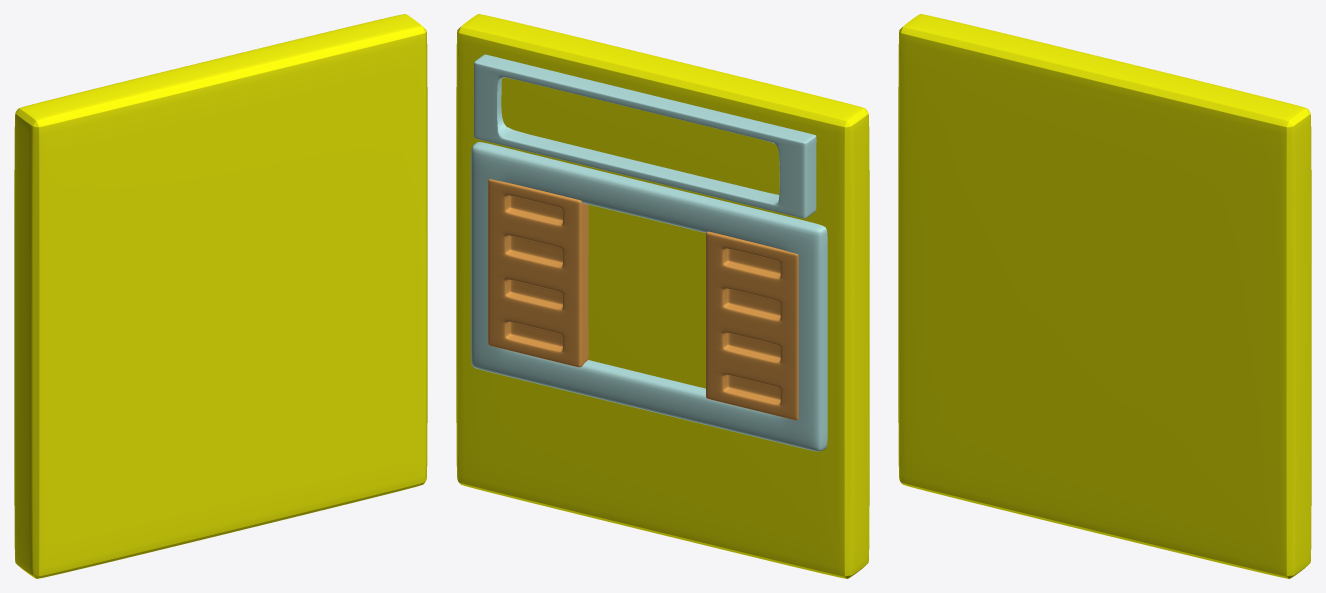
3 renders of one model, left to right at view 1: azimuth 30°, elevation 25°; view 2: azimuth 150°, elevation 25°; view 3: azimuth 330°, elevation 25°, orthographic.
Parts seen in each view (by area): view 1: polySurface143811; view 2: polySurface143811; view 3: polySurface143811.
Boxes of the visible parts, bbox=[...] form: polySurface143811: bbox=[14, 14, 427, 578]; polySurface143811: bbox=[456, 14, 869, 578]; polySurface143811: bbox=[898, 14, 1311, 578].
Size of the model in its own units: 0.8996 by 0.9995 by 0.1408.
